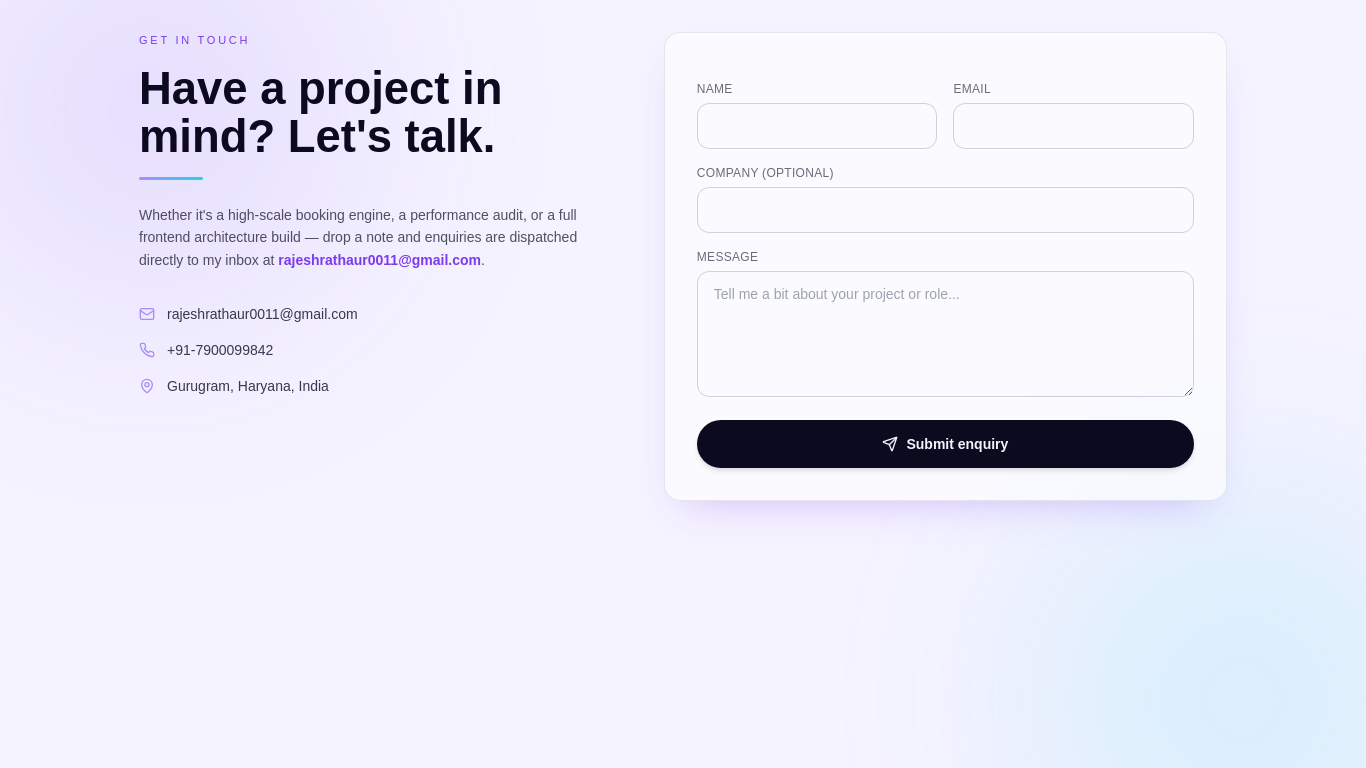
Test: <ContactForm /> › shows validation errors and does not call the API
Click the button "Submit enquiry" at (945, 444), box left=697, top=420, right=1194, bottom=468
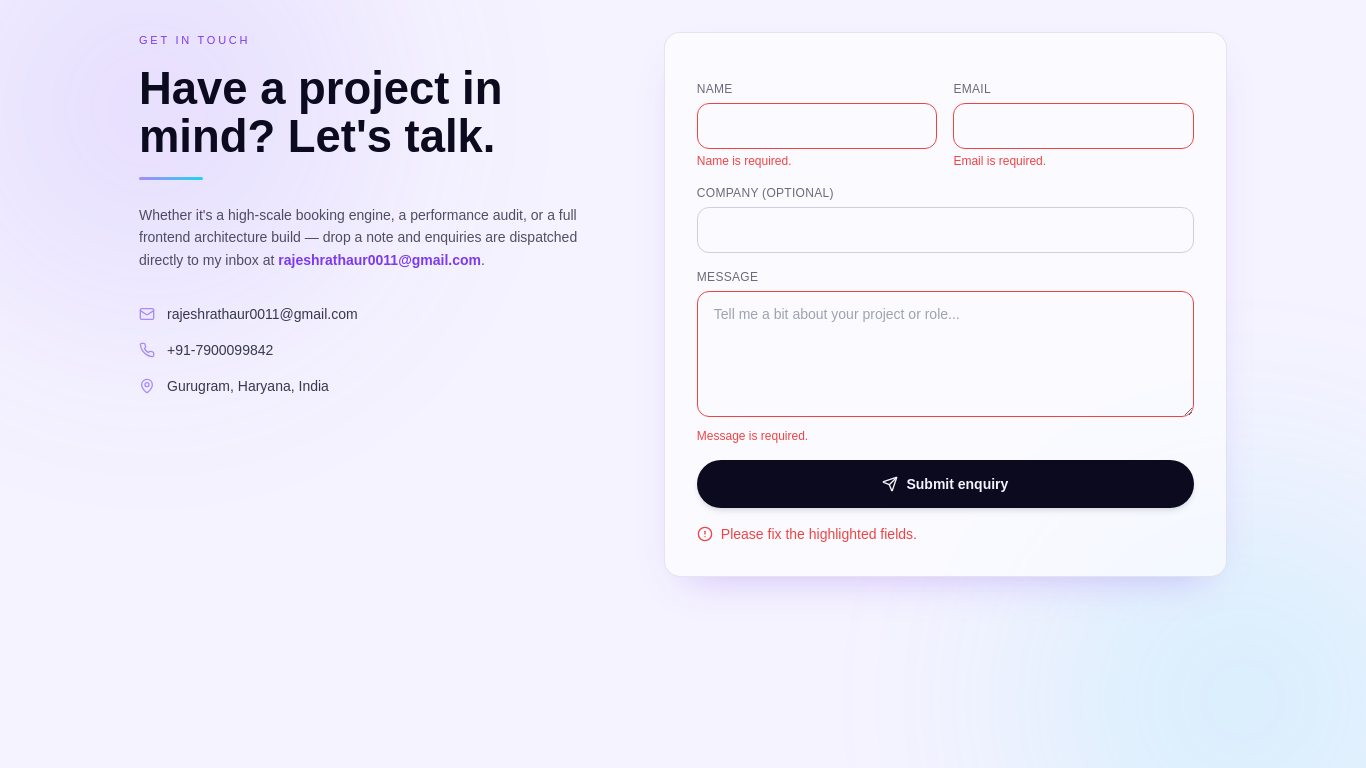
Result: the text "Name is required." is shown at left=697, top=154, right=792, bottom=168
Result: the text "Email is required." is shown at left=953, top=154, right=1046, bottom=168
